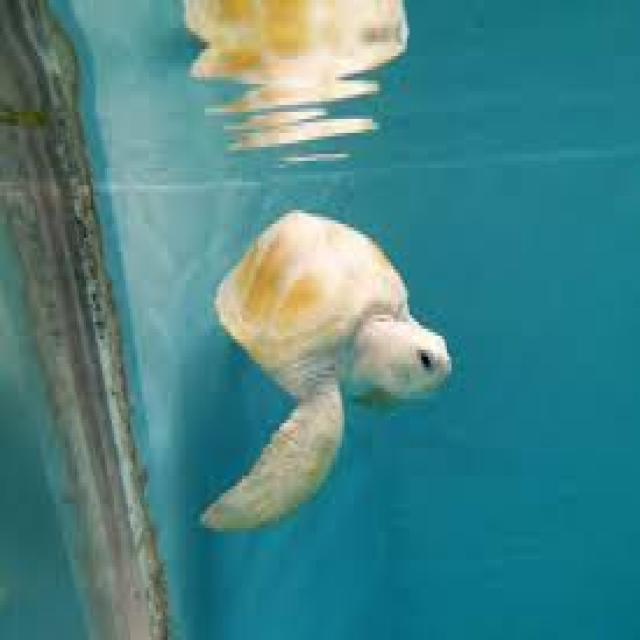turtle: (189, 178, 461, 493)
